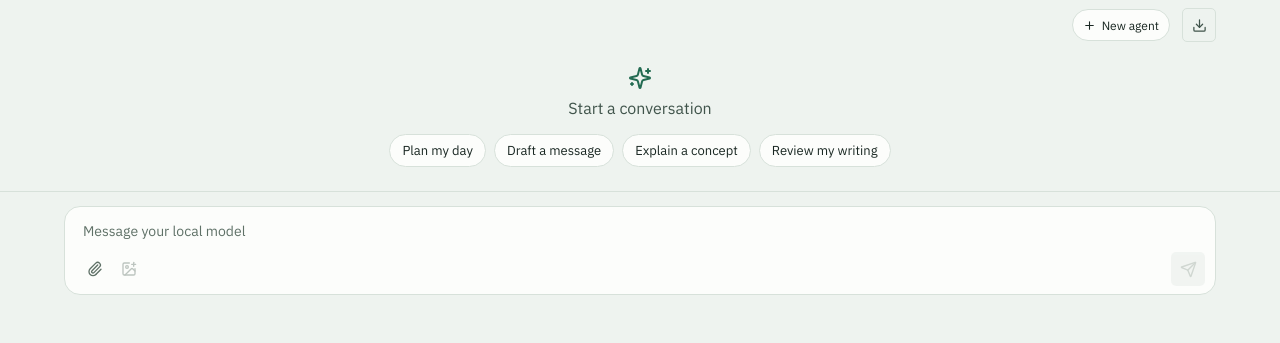
LocalAIChat › keeps the partial reply when a run is stopped
Type "Write a long answer" into the text box named "Message local AI".
click(642, 232); type("Write a long answer")  # box x1=79 y1=217 x2=1205 y2=246
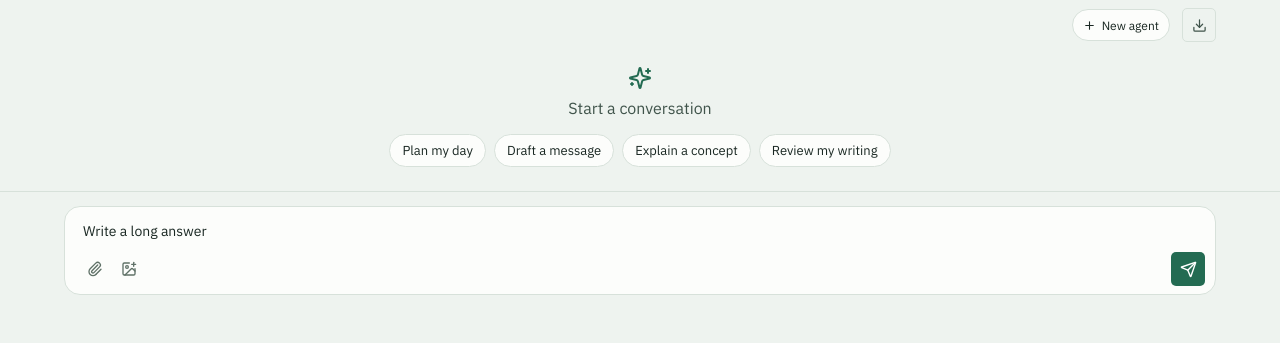
Click the button named "Send to local AI".
click(1188, 269)  # box x1=1171 y1=252 x2=1205 y2=286
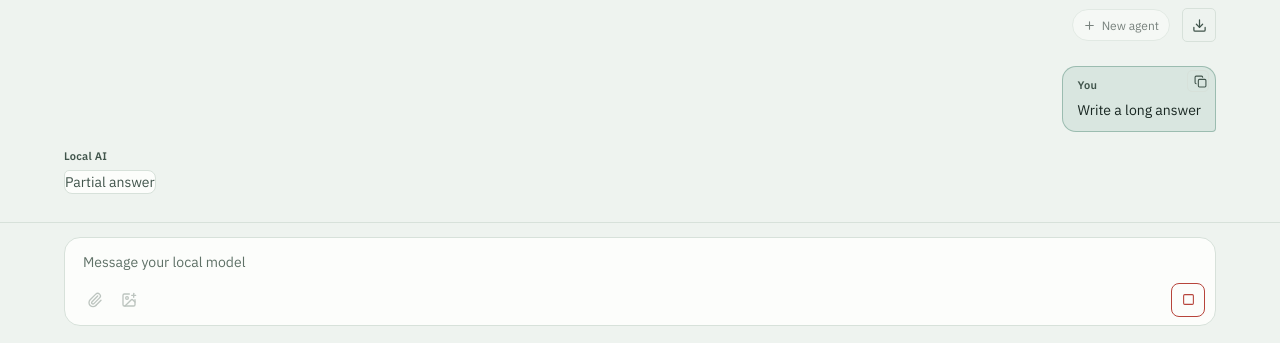
Click the button named "Stop generating".
click(1188, 300)  # box x1=1171 y1=283 x2=1205 y2=317
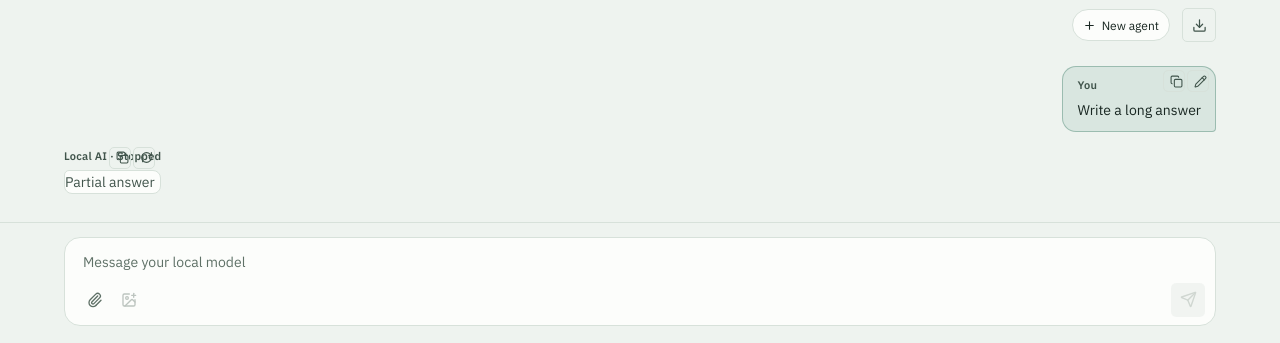
Result: the text "Local AI · Stopped" is shown at x1=64 y1=148 x2=161 y2=166
